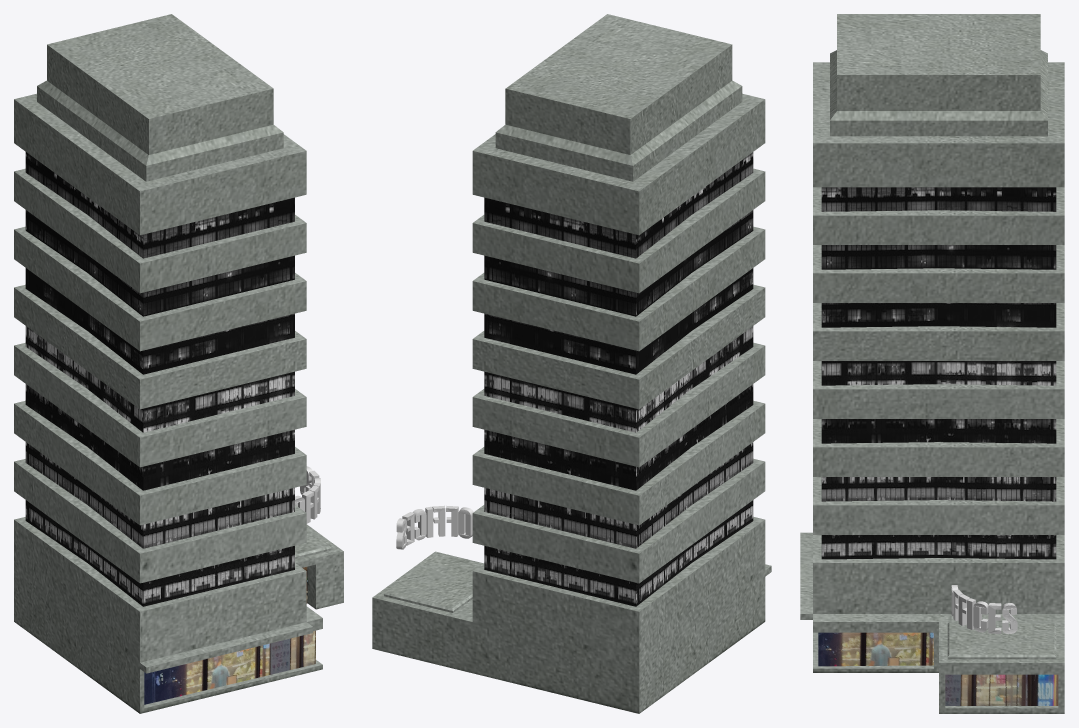
The model's file is Building6(1).fbx.
3 renders of one model, left to right at view 1: azimuth 30°, elevation 25°; view 2: azimuth 150°, elevation 25°; view 3: azimuth 270°, elevation 25°, orthographic.
Visible parts, largest first — view 1: Cube.149, Cube.150, Cube.151, Text.015; view 2: Cube.149, Cube.150, Text.015; view 3: Cube.149, Cube.150, Cube.151, Text.015.
Boxes of the visible parts, x1,y1,x2,y2 form: Cube.149: [14, 14, 343, 713]; Cube.150: [25, 152, 294, 606]; Cube.151: [144, 630, 315, 704]; Text.015: [295, 466, 320, 523]; Cube.149: [372, 14, 771, 713]; Cube.150: [484, 152, 753, 606]; Text.015: [396, 505, 473, 549]; Cube.149: [800, 14, 1064, 713]; Cube.150: [821, 187, 1056, 559]; Cube.151: [818, 632, 1058, 705]; Text.015: [951, 585, 1017, 633].
Size of the model in its own units: 1560 by 3224 by 1333.
4 materials, 4 textured.
